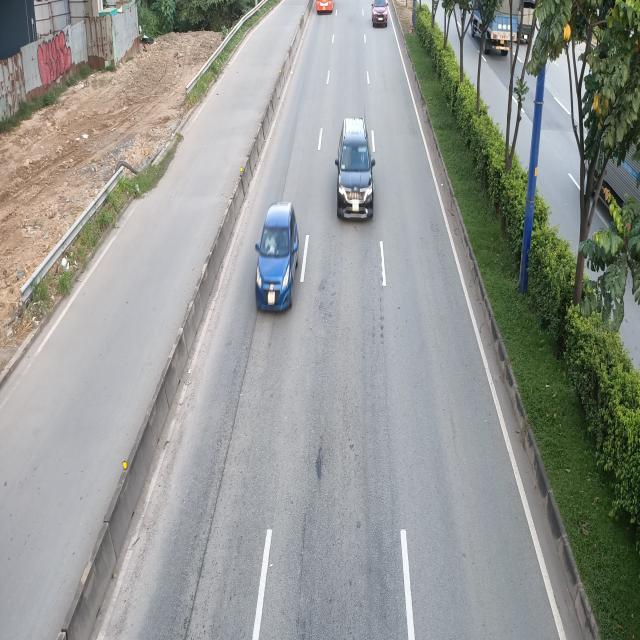car: (255, 200, 300, 310), (336, 117, 376, 220)
